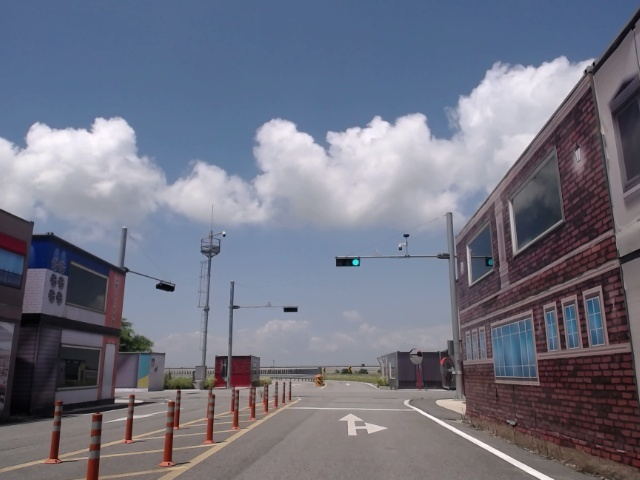green_3: (337, 258, 360, 266)
